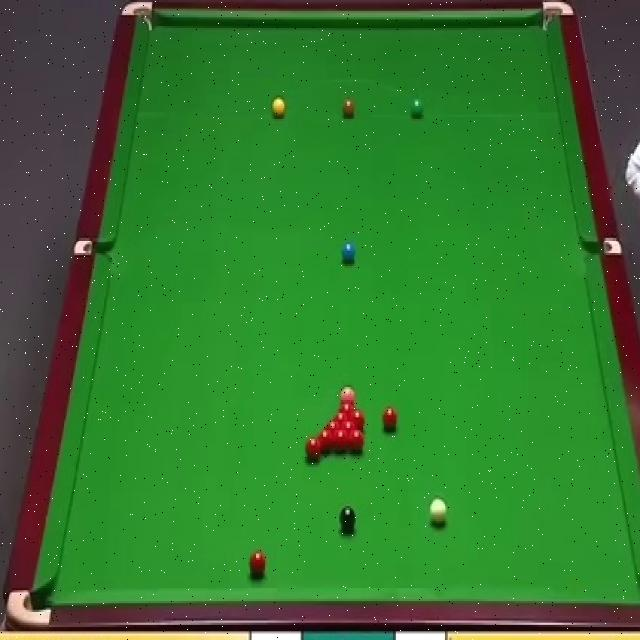black-ball: (339, 503, 357, 532)
blue-ball: (340, 240, 355, 264)
brown-ball: (342, 96, 356, 117)
green-ball: (409, 96, 424, 118)
pink-ball: (339, 384, 356, 400)
red-ball: (248, 550, 265, 580), (304, 437, 322, 461), (316, 429, 333, 454), (348, 430, 366, 452), (383, 407, 398, 432), (333, 428, 348, 453), (350, 409, 365, 429), (337, 402, 357, 413), (325, 421, 342, 433), (342, 420, 358, 432), (331, 412, 350, 422)
white-ball: (428, 499, 447, 526)
yellow-ball: (274, 99, 287, 120)
